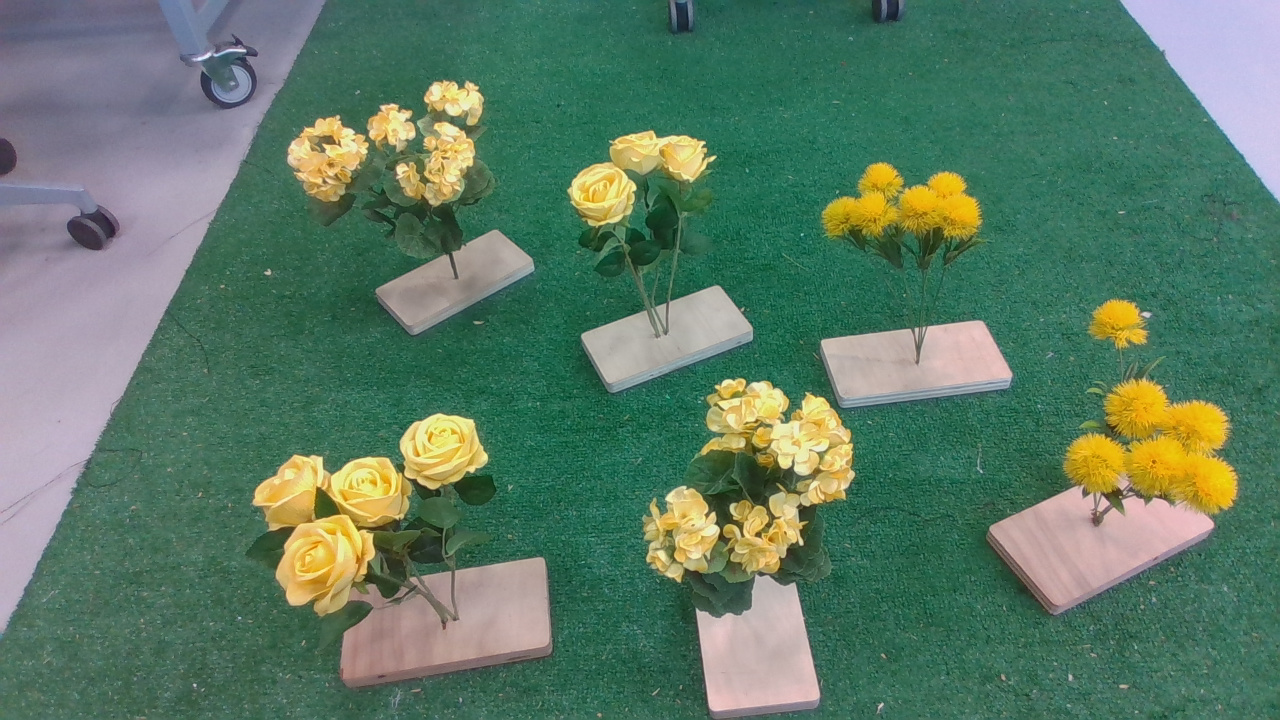dandelion: (1059, 302, 1252, 527), (820, 161, 997, 285)
geranium: (283, 81, 505, 264)
rose: (248, 410, 514, 656), (559, 134, 730, 290)
